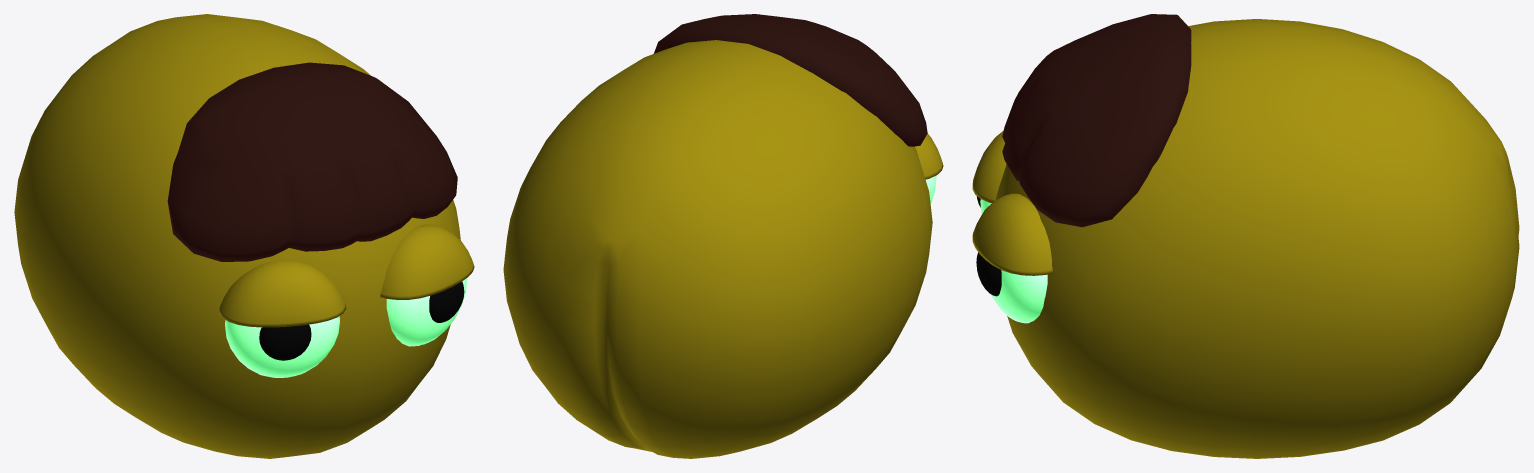
Rendered from body.fbx.
3 views of the same model, side by side, from view 1: azimuth 30°, elevation 25°; view 2: azimuth 150°, elevation 25°; view 3: azimuth 270°, elevation 25° (orthographic). The views are drawn at different scales.
Parts seen in each view (by area): view 1: Box030, Object026, Sphere069, Sphere068; view 2: Box030, Object026, Sphere069; view 3: Box030, Object026, Sphere068, Sphere069.
Part boxes in pixels (x1,y1,x2,y2): Box030: (14,14,460,458); Object026: (167,62,457,261); Sphere069: (218,260,346,377); Sphere068: (380,224,474,346); Box030: (503,40,932,458); Object026: (653,14,927,146); Sphere069: (915,133,943,203); Box030: (996,19,1519,458); Object026: (1002,14,1191,227); Sphere068: (972,193,1052,323); Sphere069: (972,131,1006,214).
Size of the model in its own units: 18.68 by 23.99 by 19.41.
